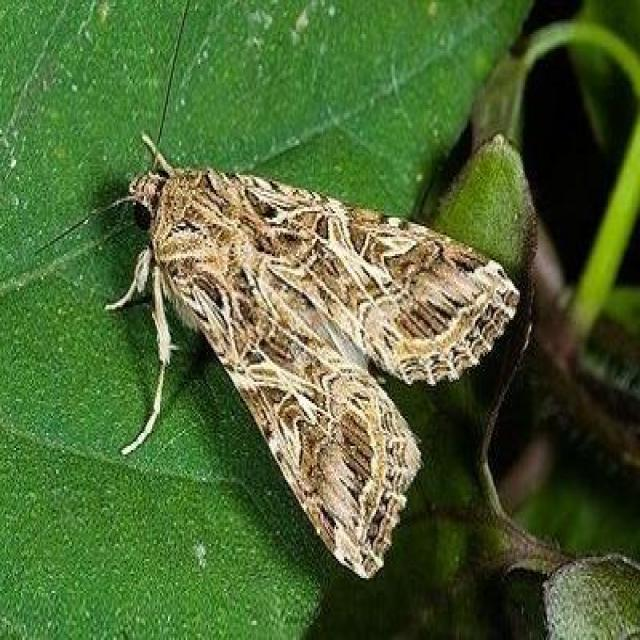armyworm: (81, 104, 528, 602)
